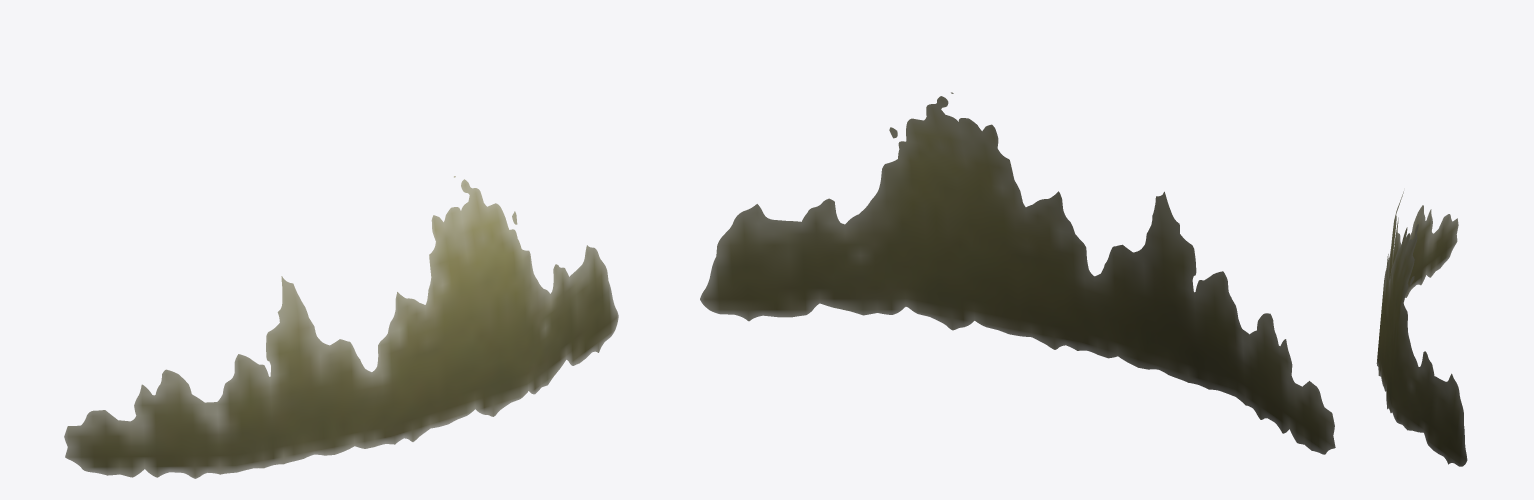
File: bz_grass_04.fbx
3 views of the same model, side by side, from view 1: azimuth 30°, elevation 25°; view 2: azimuth 150°, elevation 25°; view 3: azimuth 270°, elevation 25° (orthographic). The views are drawn at different scales.
Visible parts, largest first — view 1: bz_grass_04; view 2: bz_grass_04; view 3: bz_grass_04.
Boxes of the visible parts, x1,y1,x2,y2 form: bz_grass_04: (64, 176, 618, 478); bz_grass_04: (700, 92, 1335, 454); bz_grass_04: (1376, 191, 1467, 466).
Bounding box in the file's own units: 3.29 × 1.64 × 0.8756.
